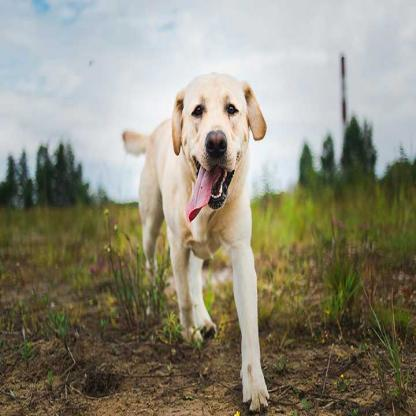Labarador Retriever: (122, 67, 269, 406)
